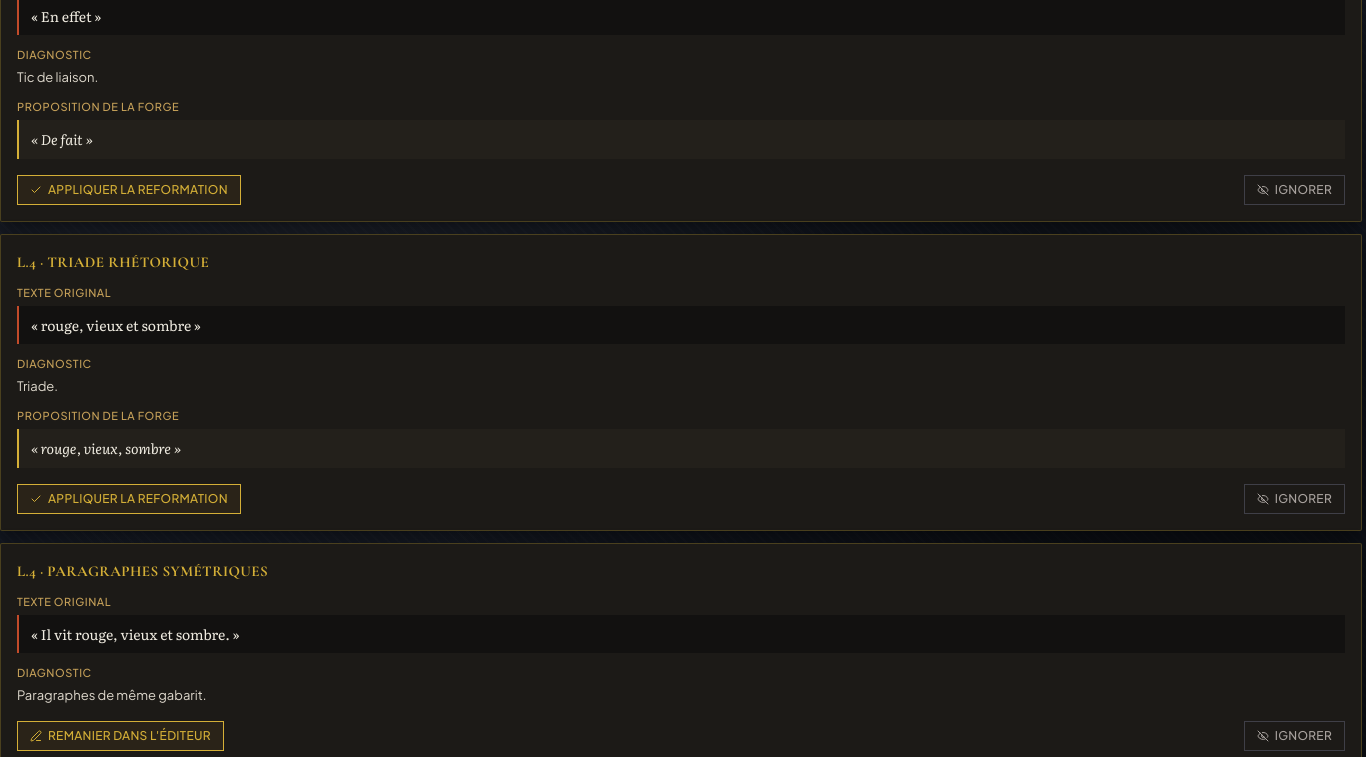
Test: reworks an orphan alert in the Retouche editor on the targeted passage
(page scrolled)
Click the button "Remanier dans l'éditeur" at (120, 736), box top-left (17, 721), bottom-right (224, 751)
(page scrolled)
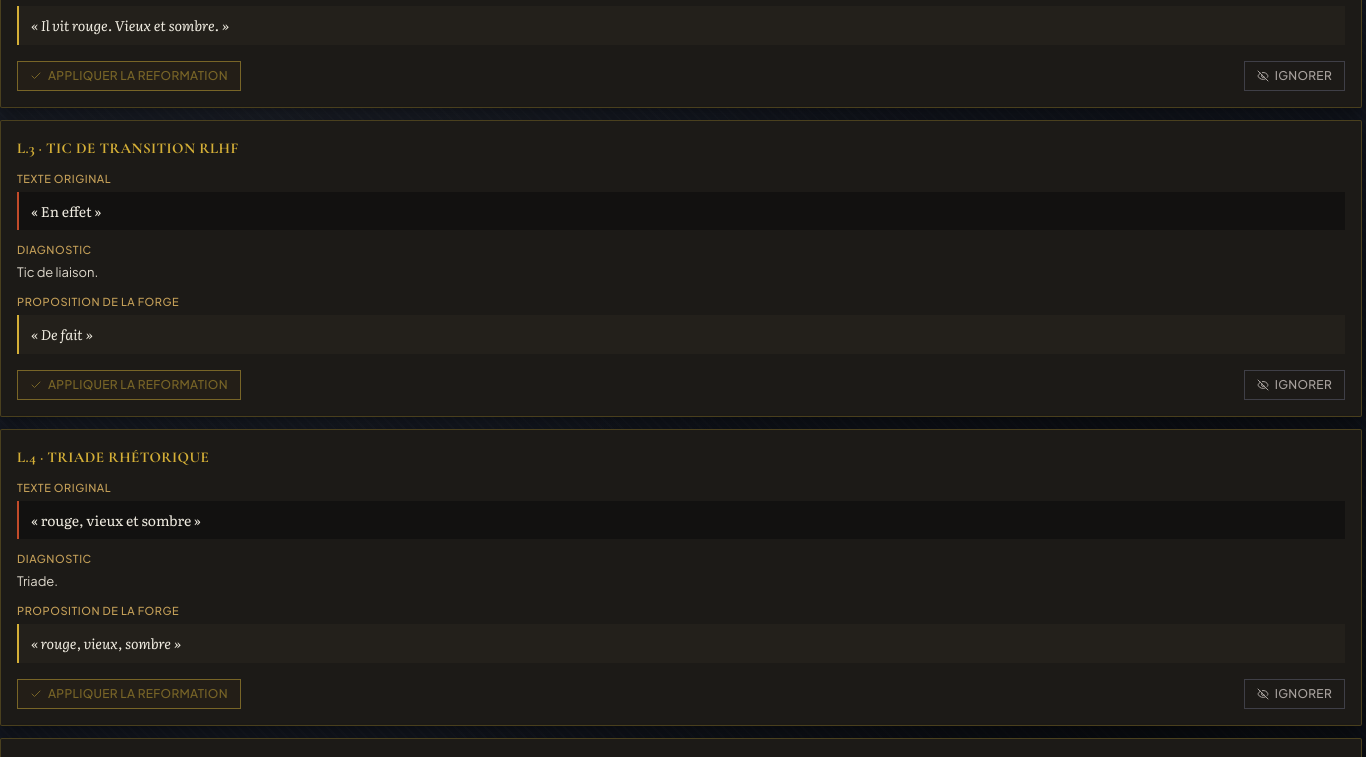
Expected: the button "Appliquer la reformation" below "De fait" is disabled, top-left (17, 370), bottom-right (241, 400)
